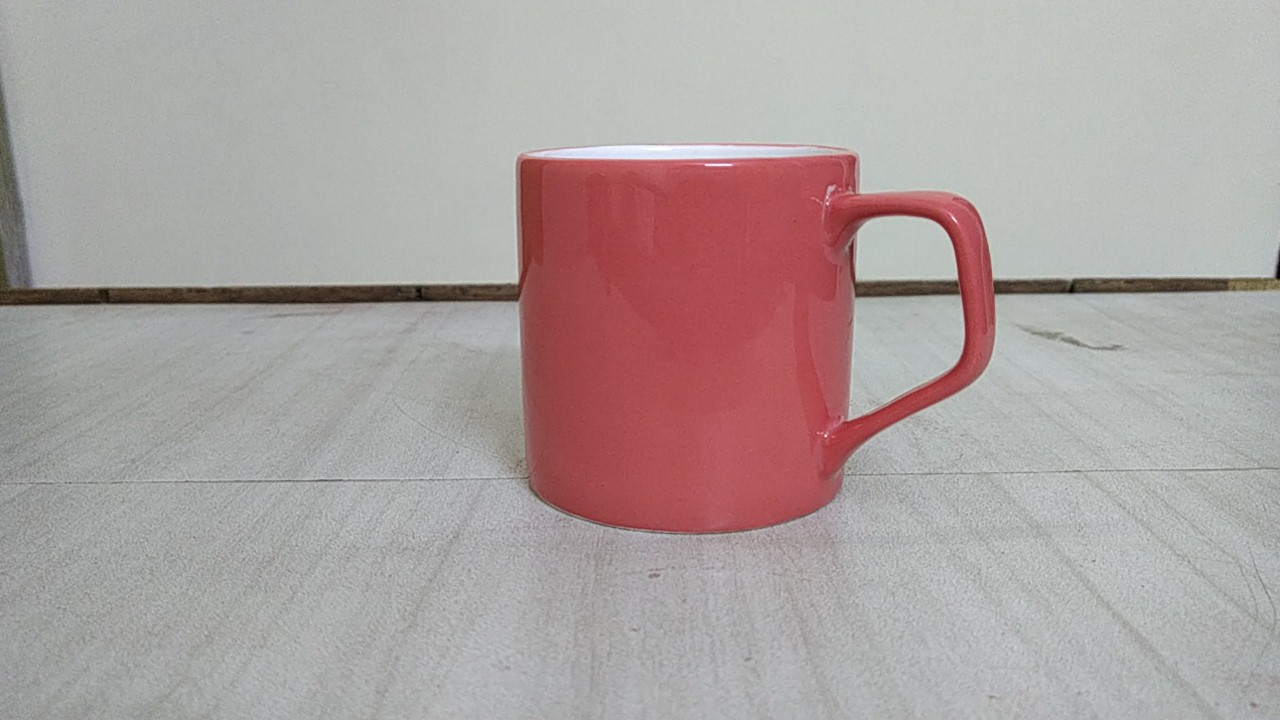cup: (498, 125, 1005, 554)
